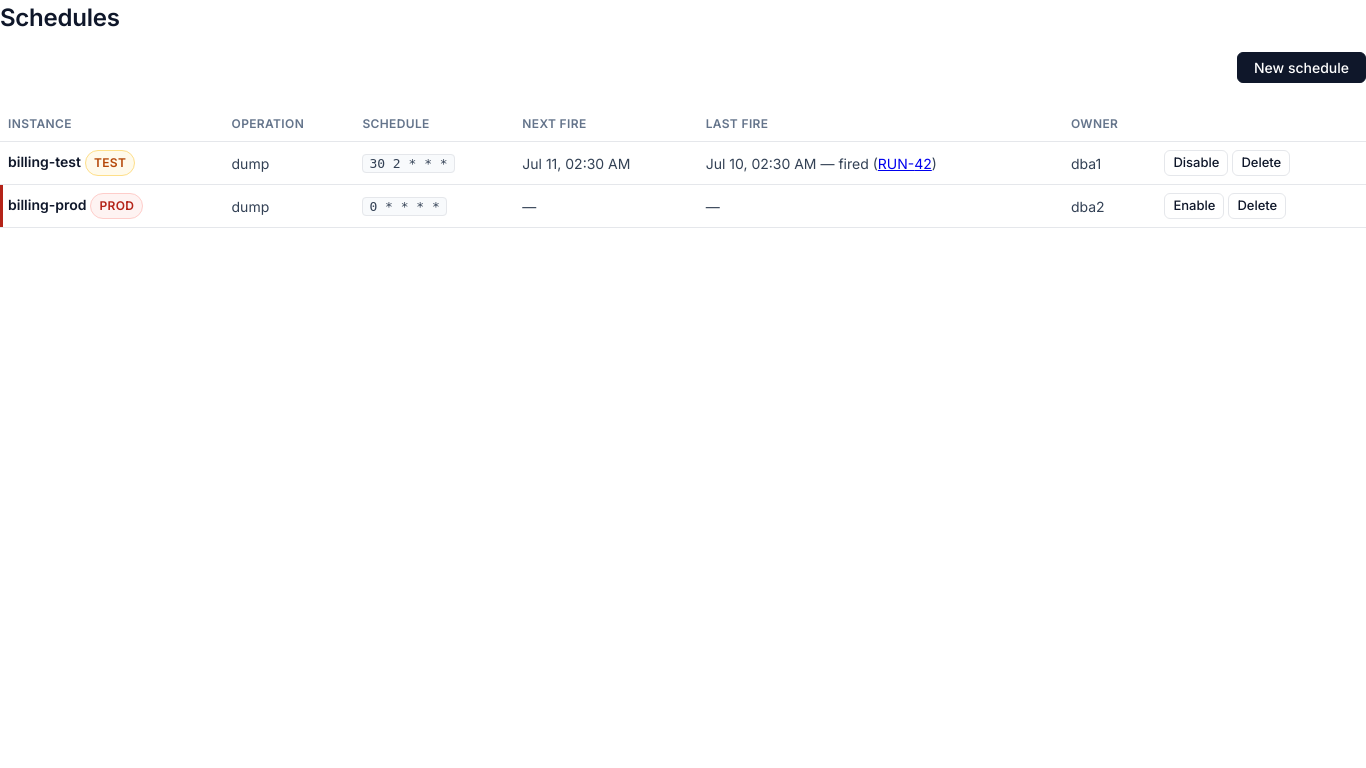
create flow: fill the form, submit, and the new row appears
Expected: the table is shown, [0,107,1365,228]
Click the button "New schedule" at coordinates (1302, 68), box [1237,52,1365,83]
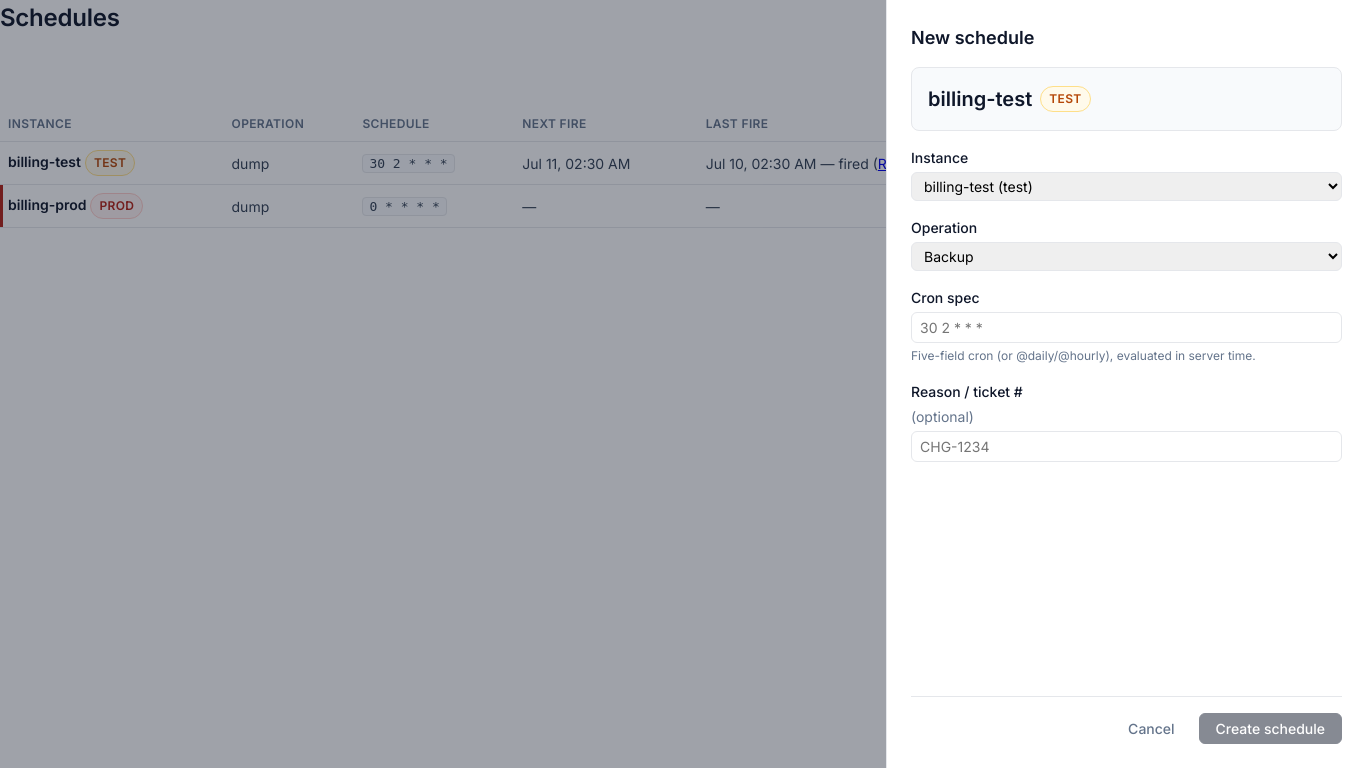
Type "0 3 * * *" into the field labelled "Cron spec" at coordinates (1126, 328), box [911,312,1342,343]
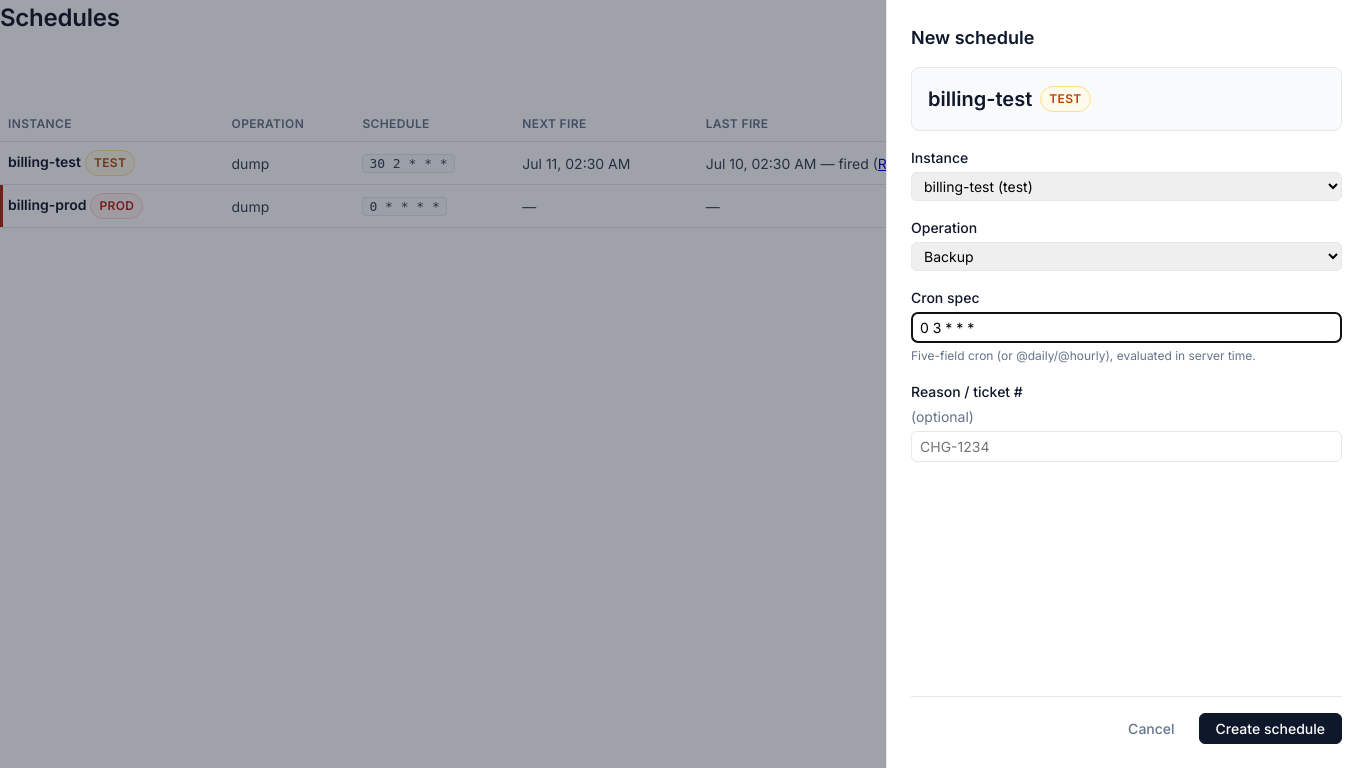
Type "nightly job" into the field labelled "Reason / ticket # (optional)" at coordinates (1126, 446), box [911,431,1342,462]
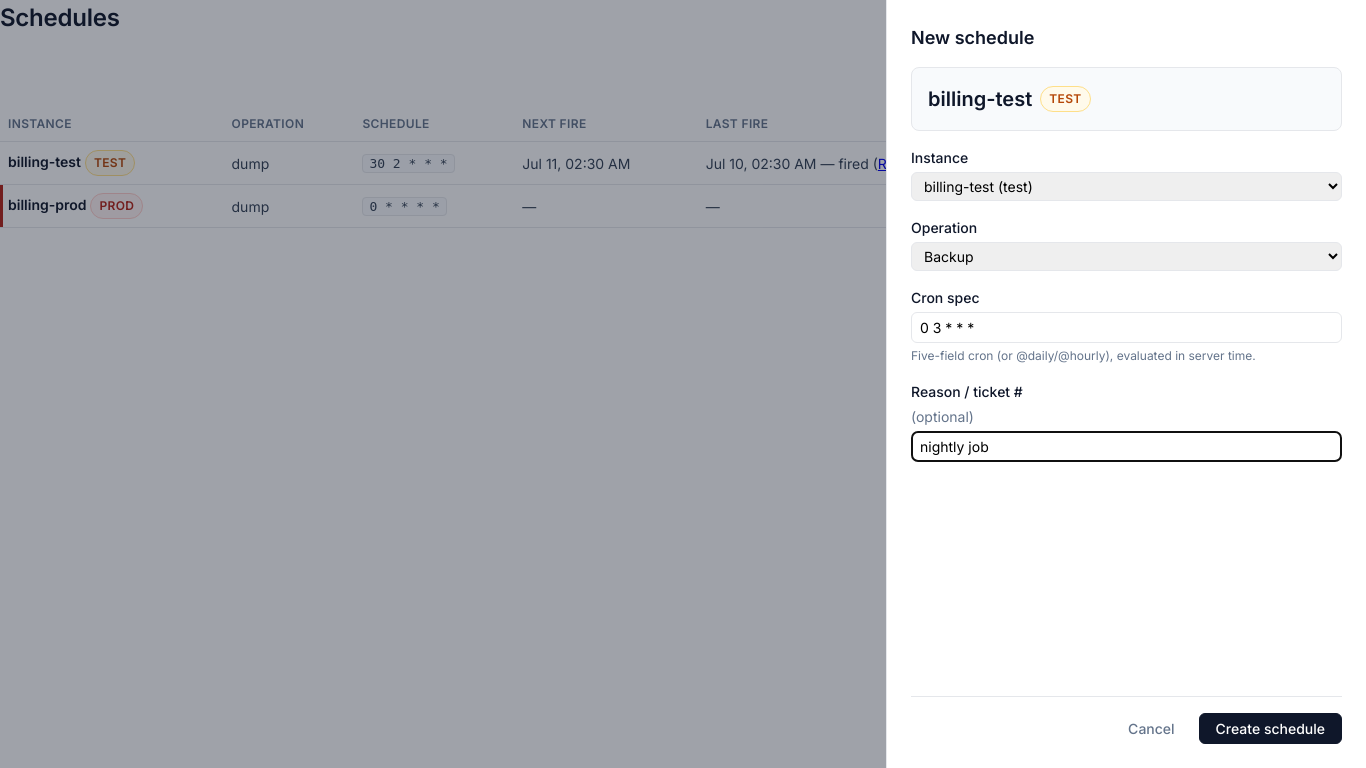
Click the button "Create schedule" at coordinates (1270, 728), box [1199,713,1342,744]
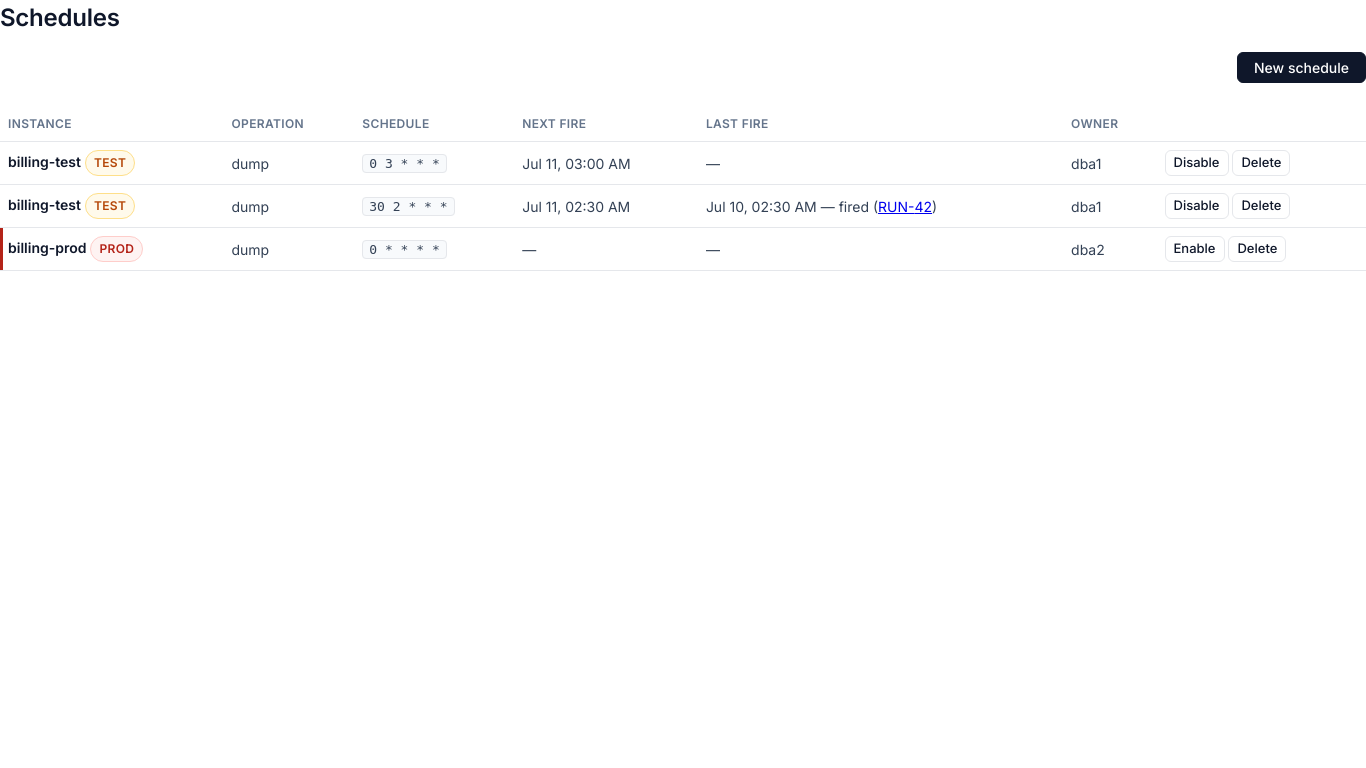
Now the text "0 3 * * *" is shown, box [362,154,447,173]
Now the dialog is gone
